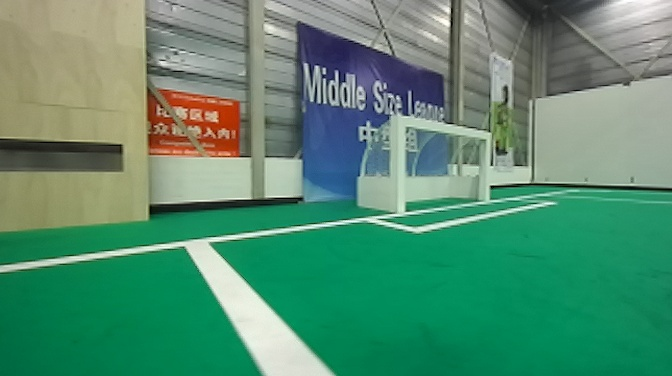goalpost: (382, 105, 408, 214), (475, 124, 496, 205)
